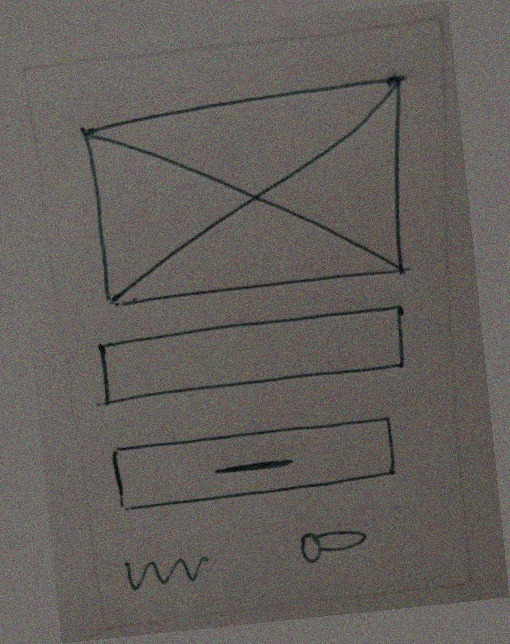button: (101, 409, 407, 523)
image: (69, 71, 425, 317)
switch: (288, 513, 373, 569)
text: (109, 539, 222, 606)
text_input: (84, 301, 414, 409)
